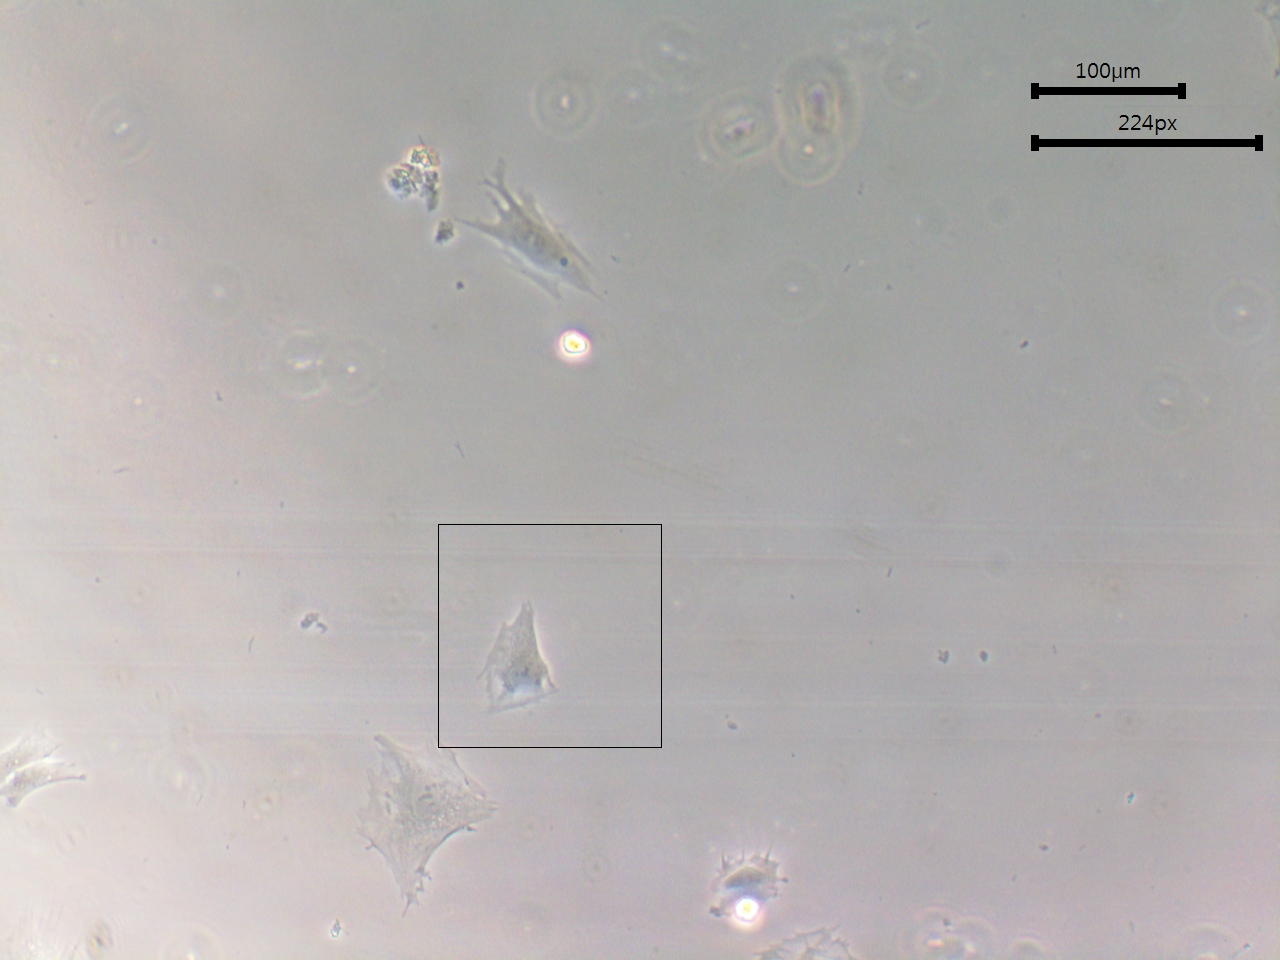large-spread: (358, 727, 487, 916)
medium-polygonal: (461, 156, 609, 313)
medium-spread: (475, 598, 567, 722)
